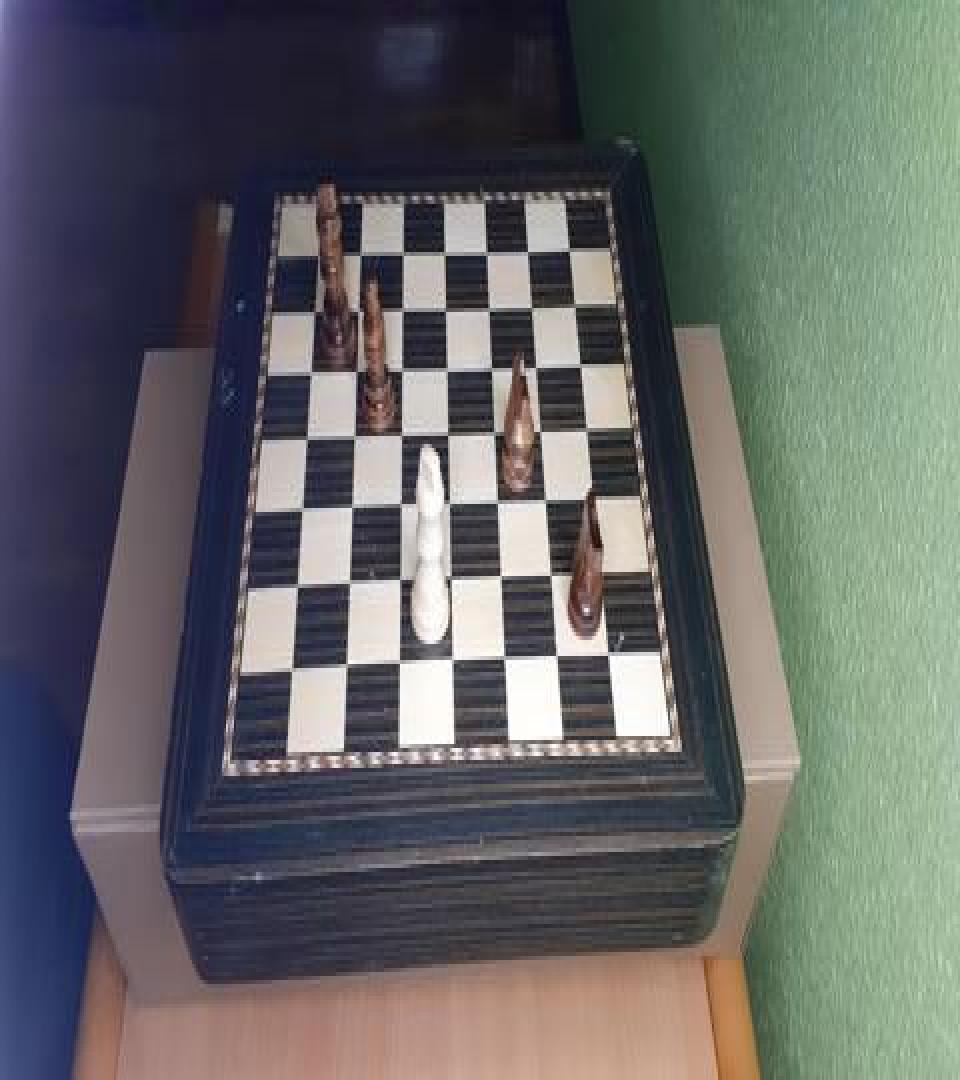xcorner: (311, 236, 323, 260), (308, 292, 320, 316), (303, 354, 315, 378), (299, 420, 311, 444), (294, 494, 306, 518), (288, 572, 300, 596), (282, 658, 294, 682), (354, 236, 366, 260), (352, 292, 364, 316), (350, 354, 362, 378), (347, 420, 359, 444), (344, 492, 356, 516), (341, 570, 353, 594), (337, 656, 349, 680), (397, 234, 409, 258), (396, 292, 408, 316), (396, 352, 408, 376), (395, 418, 407, 442), (394, 490, 406, 514), (393, 568, 405, 592), (392, 654, 404, 678), (439, 234, 451, 258), (440, 290, 452, 314), (441, 352, 453, 376), (442, 418, 454, 442), (444, 488, 456, 512), (445, 566, 457, 590), (446, 652, 458, 676), (482, 234, 494, 258), (484, 290, 496, 314), (487, 350, 499, 374), (490, 416, 502, 440), (493, 488, 505, 512), (496, 564, 508, 588), (500, 650, 512, 674), (524, 232, 536, 256), (528, 290, 540, 314), (532, 350, 544, 374), (537, 416, 549, 440), (542, 486, 554, 510), (547, 564, 559, 588), (553, 648, 565, 672), (565, 232, 577, 256), (571, 288, 583, 312), (577, 348, 589, 372), (584, 414, 596, 438), (591, 484, 603, 508), (598, 562, 610, 586), (607, 646, 619, 670)
